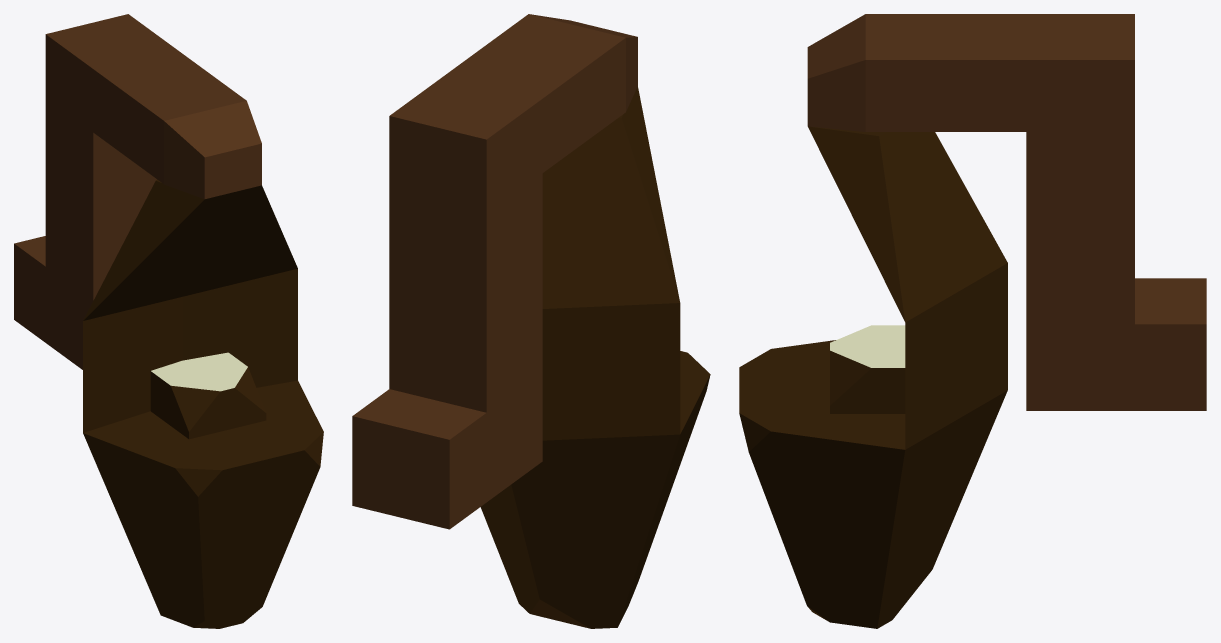
The model's file is Lanturn.fbx.
The picture shows the model from 3 angles, left to right: view 1: azimuth 30°, elevation 25°; view 2: azimuth 150°, elevation 25°; view 3: azimuth 270°, elevation 25°; orthographic projection. The views are drawn at different scales.
Visible parts, largest first — view 1: Lanturn; view 2: Lanturn; view 3: Lanturn.
Part boxes in pixels (x1,y1,x2,y2): Lanturn: (14,14,323,628); Lanturn: (352,14,710,628); Lanturn: (739,14,1206,628).
Bounding box in the file's own units: 30.32 × 67.17 × 50.18.
